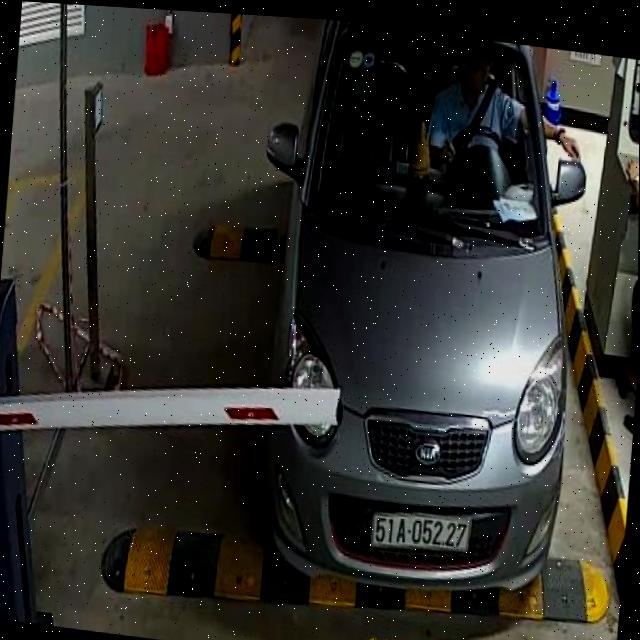car: (228, 14, 601, 624)
plate: (365, 503, 474, 559)
